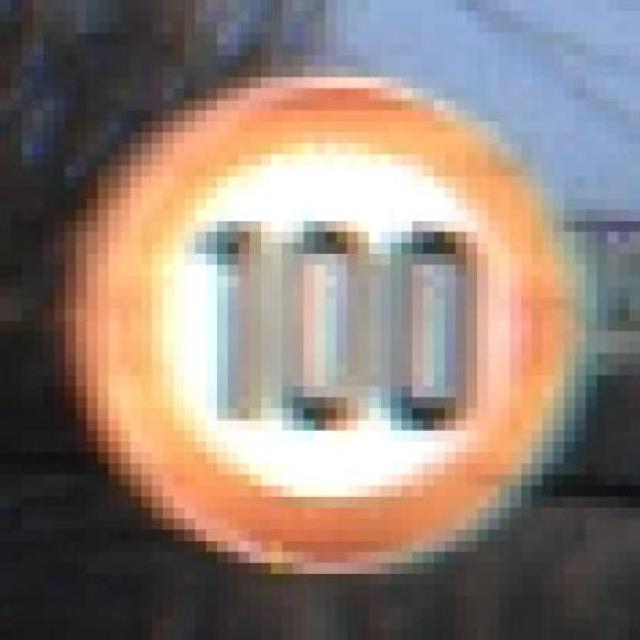forb_speed_over_100: (105, 86, 566, 575)
